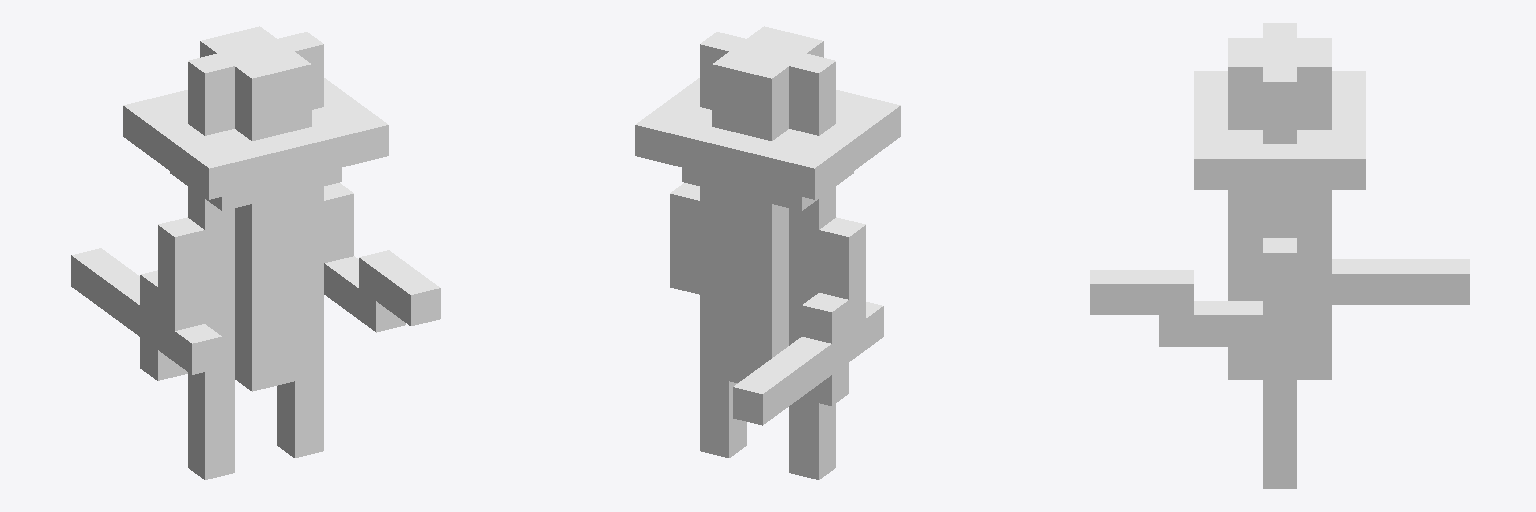
The model's file is idle_1.obj.
3 views of the same model, side by side, from view 1: azimuth 30°, elevation 25°; view 2: azimuth 150°, elevation 25°; view 3: azimuth 270°, elevation 25° (orthographic).
Size of the model in its own units: 6 by 13 by 11.